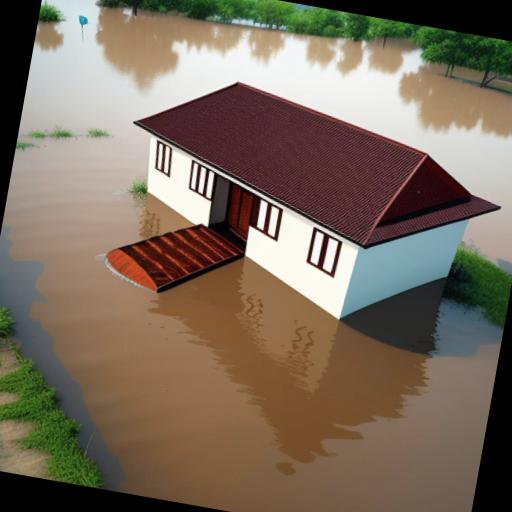flood: (0, 0, 512, 512)
house: (101, 60, 512, 345)
